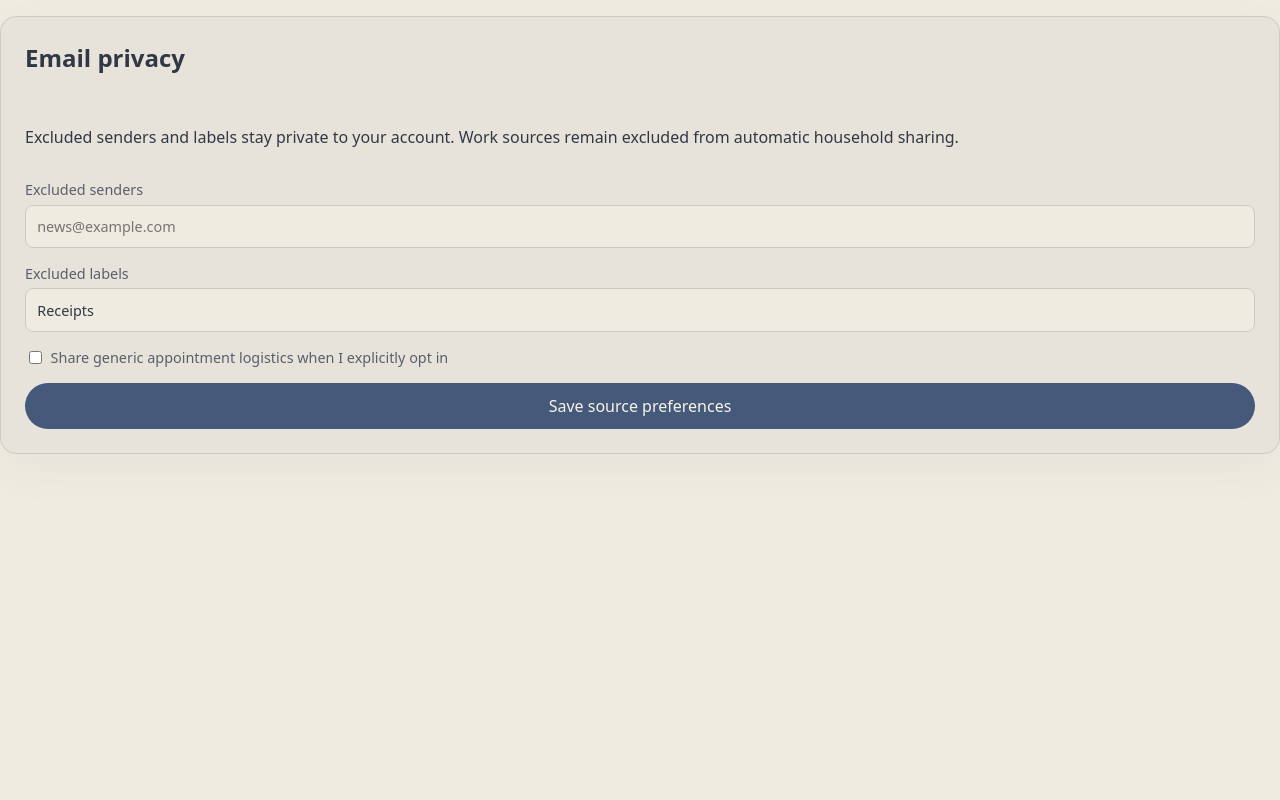
Test case: keeps commas and spaces while typing and saves the split lists
The image size is (1280, 800).
Expected: the field labelled "Excluded labels" holds "Receipts", [25,288,1255,332]
Type "a@example.com, c@example.org" into the field labelled "Excluded senders" at (640, 226), box [25,204,1255,248]
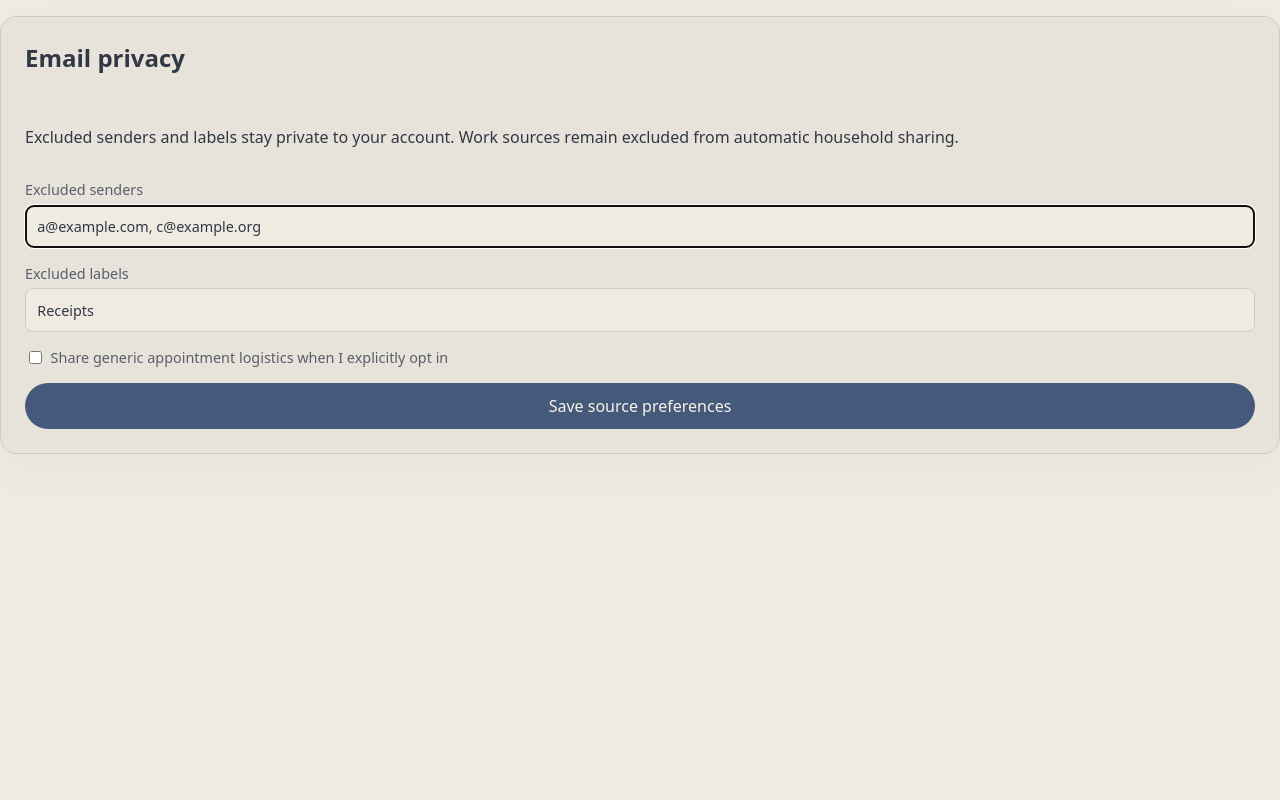
Type ", Work " into the field labelled "Excluded labels" at (640, 310), box [25,288,1255,332]
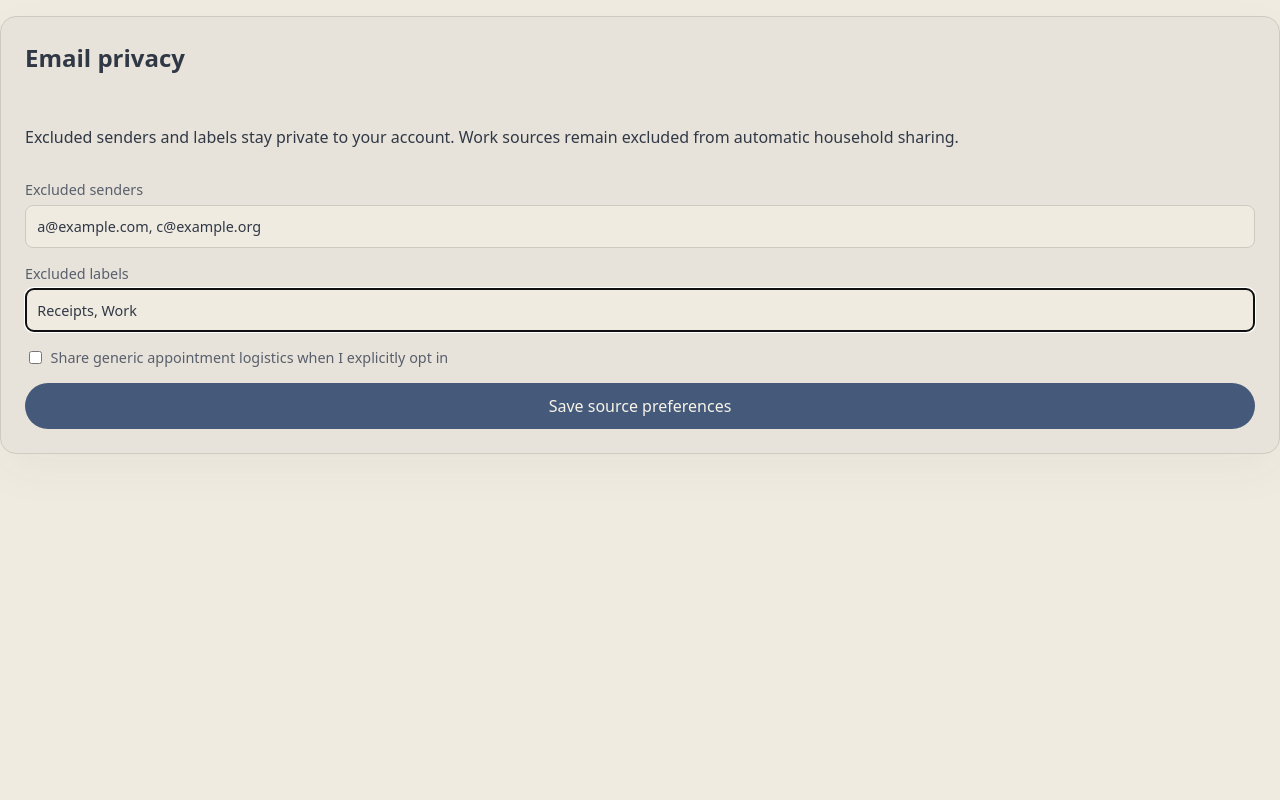
Click the button "Save source preferences" at (640, 406), box [25,383,1255,429]
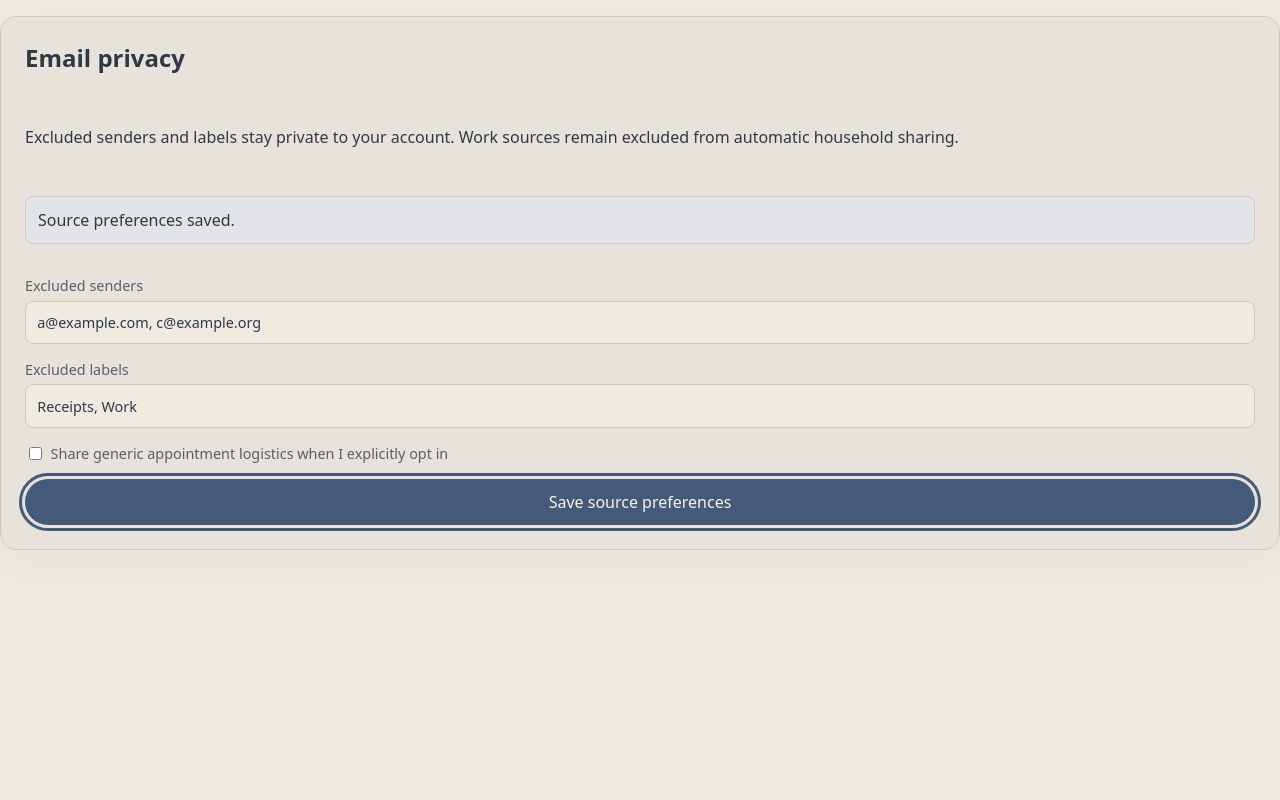
Expected: the text "Source preferences saved." is shown, [25,196,1255,244]
